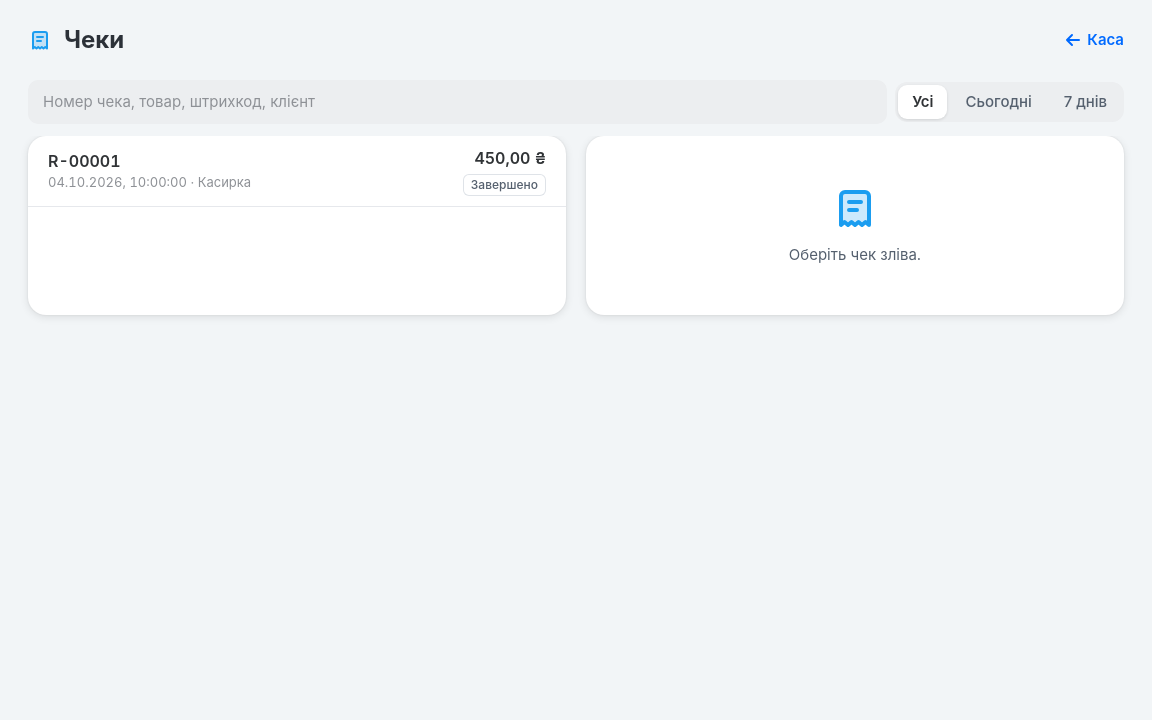
Test: TillReceiptsPage — «Обмін» › refuses over a half-rung sale in the dialog’s own words and stays put
Click the button "R-00001 04.10.2026, 10:00:00 · Касирка 450,00 ₴ Завершено": {"x": 84, "y": 161} [28,136,566,206]
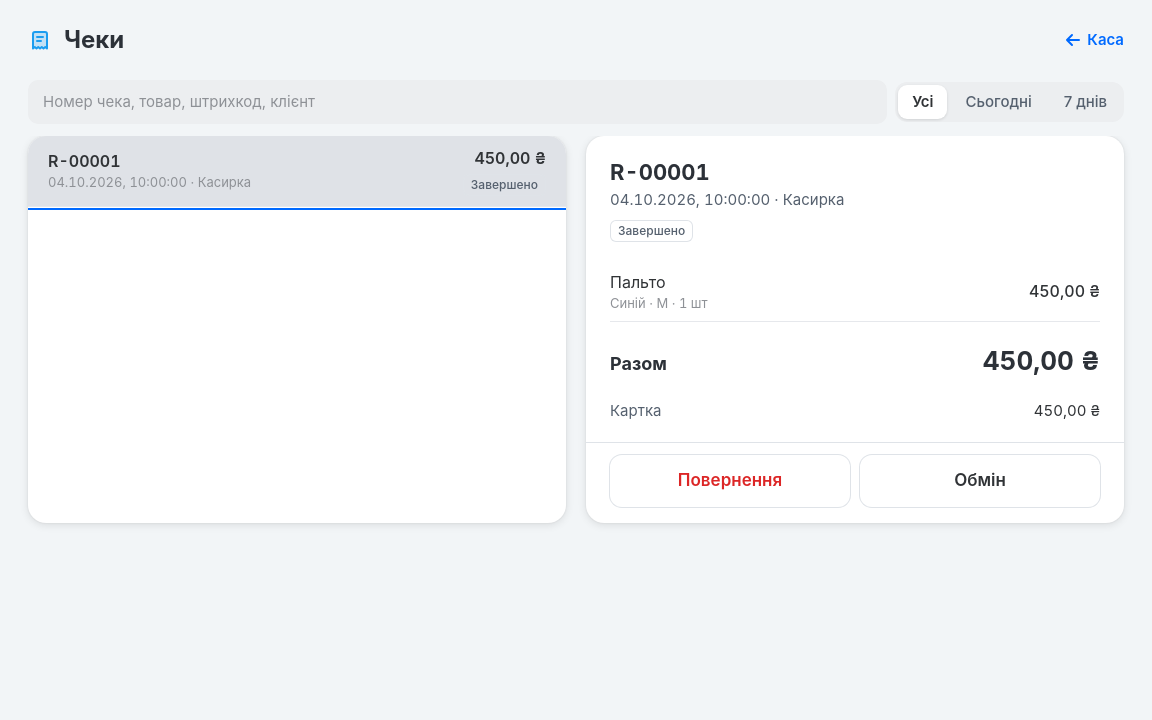
Click the button "Обмін": {"x": 980, "y": 480} [860,454,1100,506]
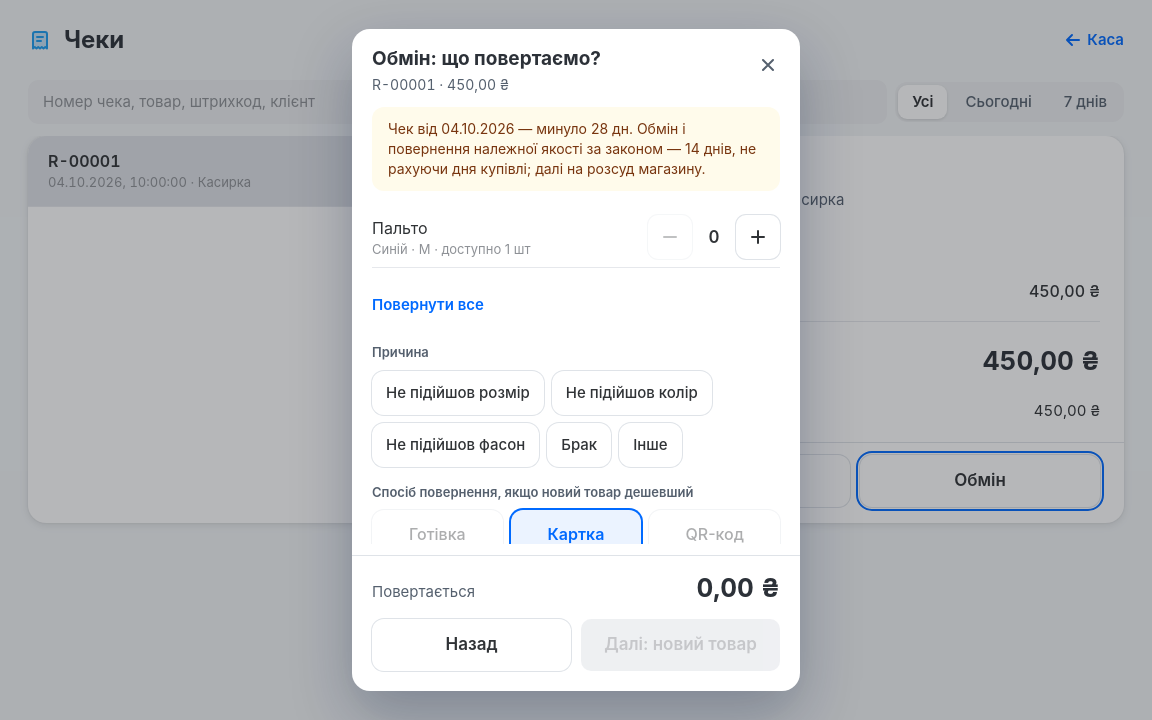
Click the button "Повернути все": {"x": 428, "y": 305} [372,283,484,327]
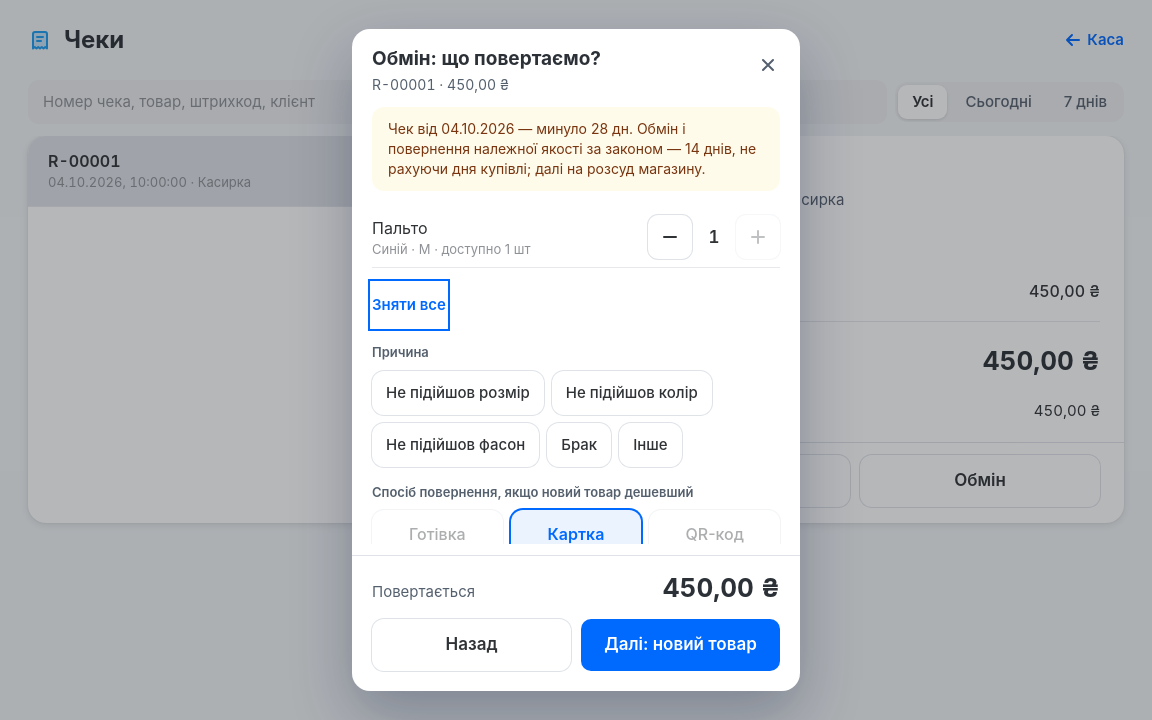
Click the button "Далі: новий товар": {"x": 680, "y": 645} [581,619,780,671]
(page scrolled)
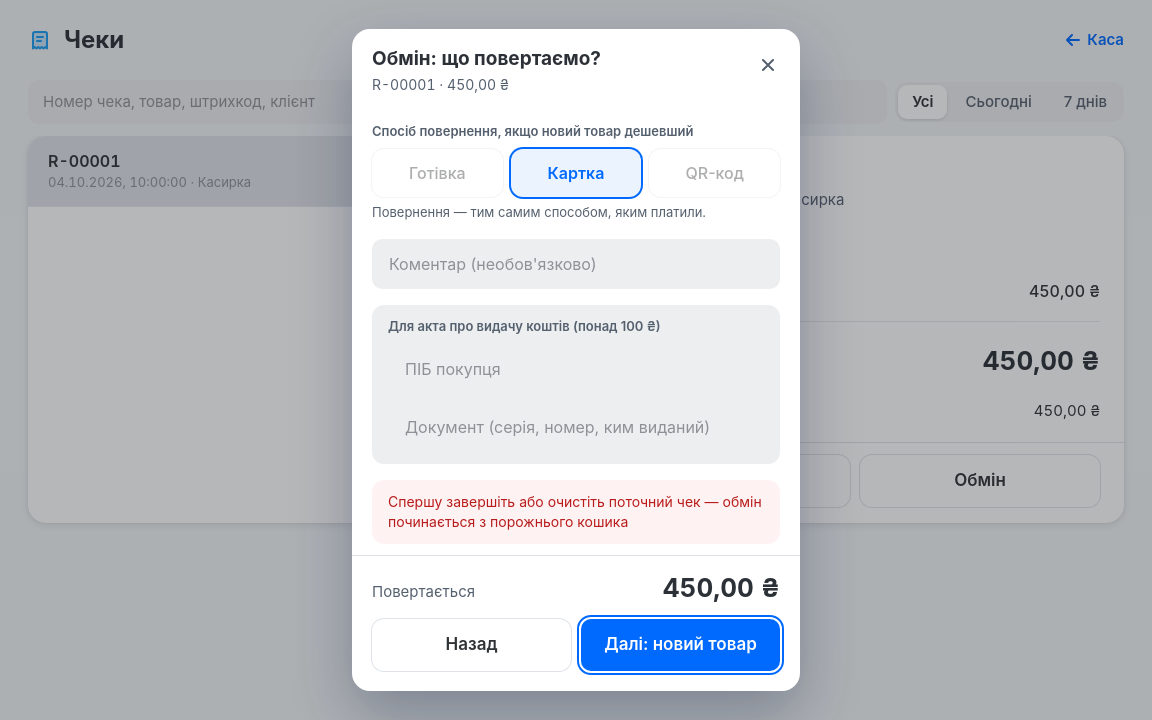
Expected: the text "обмін починається з порожнього кошика" is shown, [388,493,762,530]
